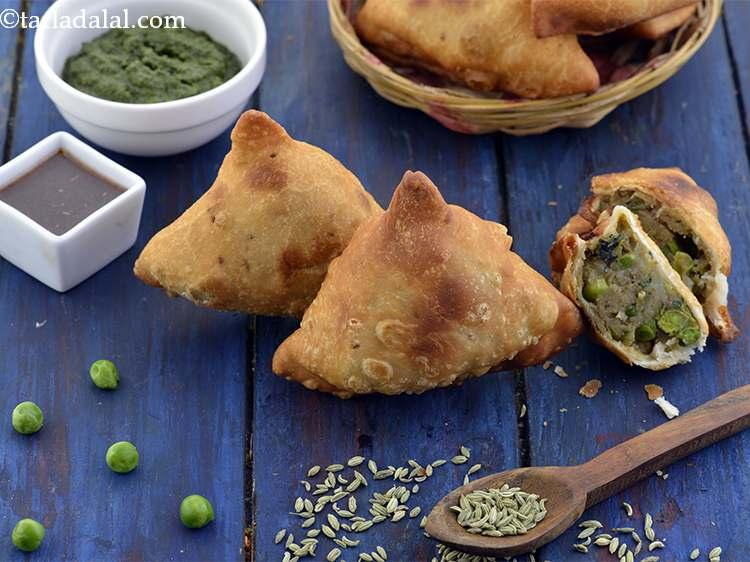samosa: (272, 171, 580, 397), (133, 110, 381, 316)
